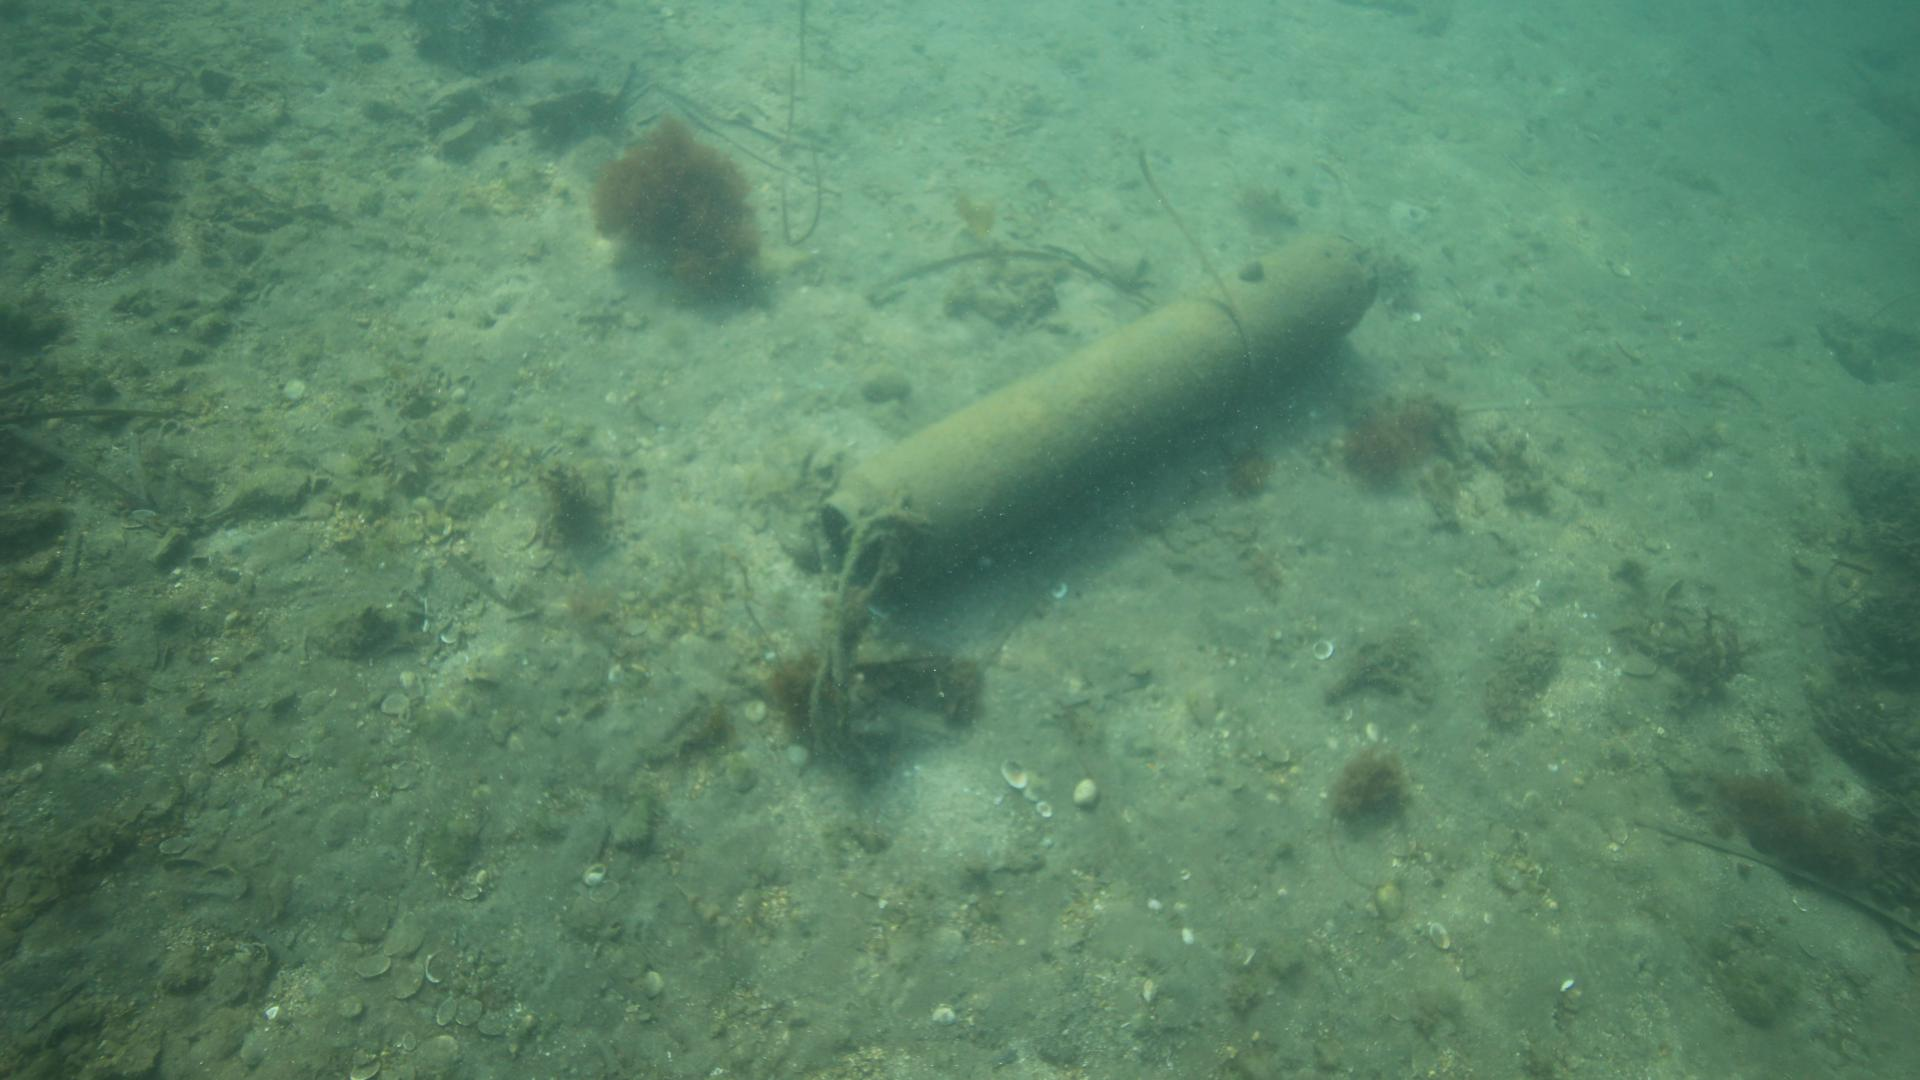bundle of ropes: (804, 489, 930, 765)
eel fish trap: (818, 229, 1379, 605)
